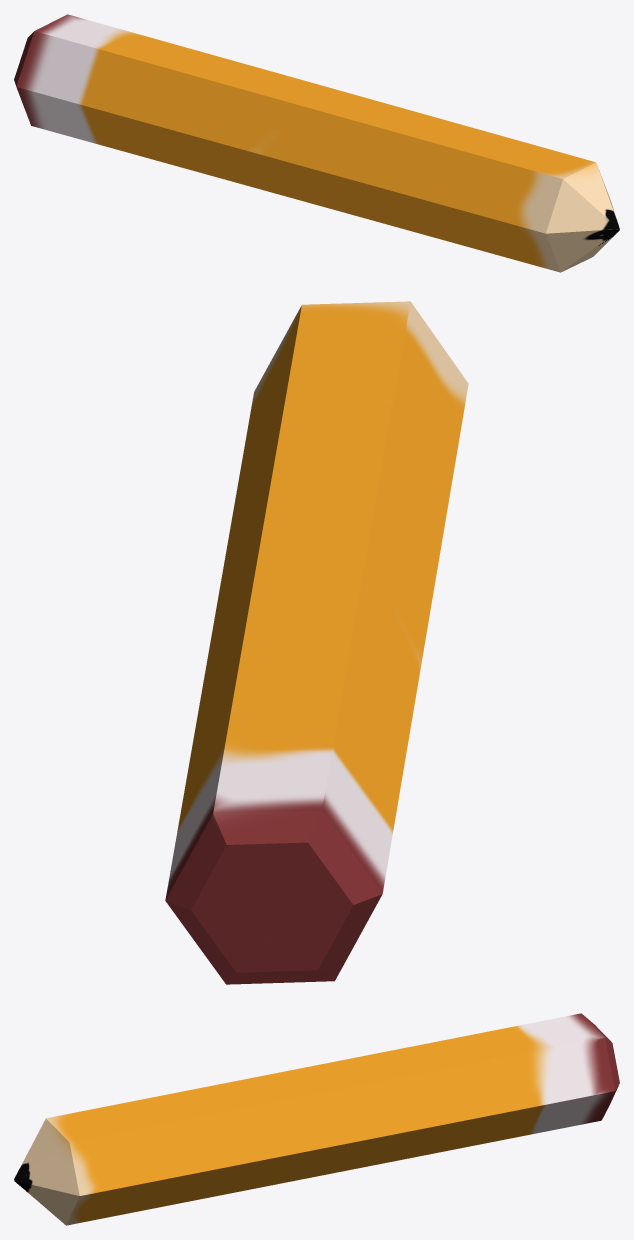
Rendered from blueprint.fbx.
3 views of the same model, one above another, from view 1: azimuth 30°, elevation 25°; view 2: azimuth 150°, elevation 25°; view 3: azimuth 270°, elevation 25° (orthographic). The views are drawn at different scales.
Parts seen in each view (by area): view 1: Pencil; view 2: Pencil; view 3: Pencil.
Part boxes in pixels (box(x1,y1,x2,y2)): Pencil: box(14, 14, 619, 272); Pencil: box(165, 301, 468, 984); Pencil: box(14, 1013, 619, 1225).
Size of what is drawn, in the model's own units: 23.88 by 6.88 by 40.64.
